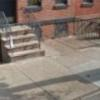stairs: (0, 23, 46, 64)
